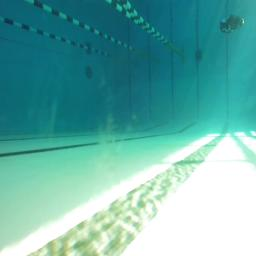Side: (219, 14, 246, 35)
